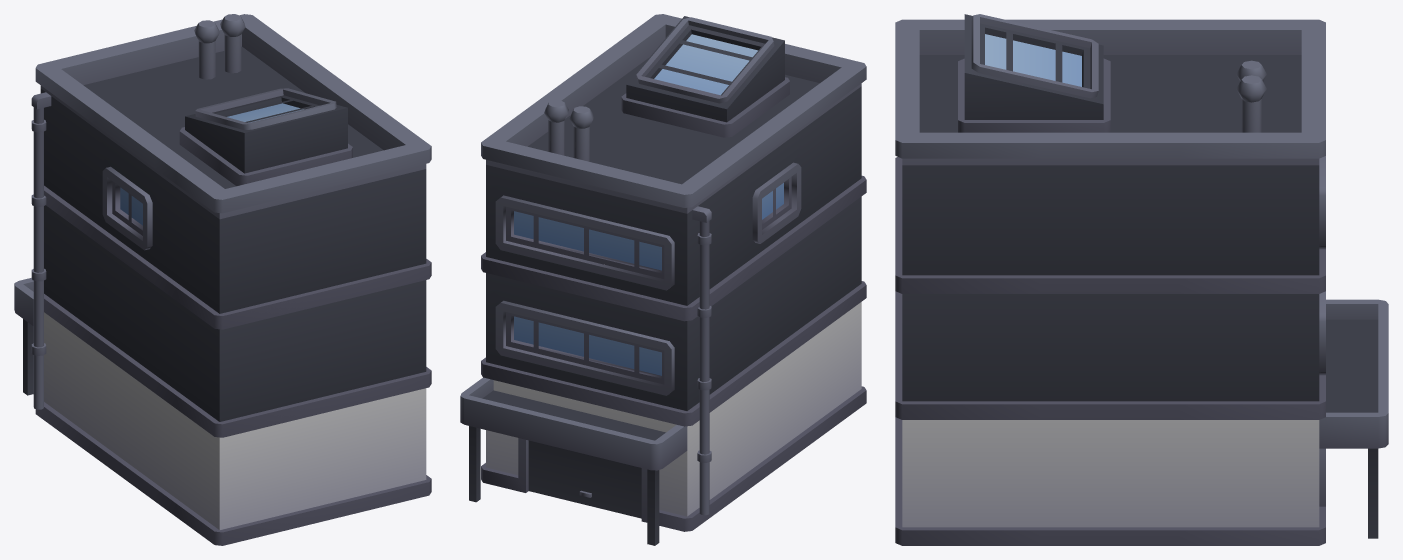
Rendered from industrial-building-d.glb.
3 renders of one model, left to right at view 1: azimuth 30°, elevation 25°; view 2: azimuth 150°, elevation 25°; view 3: azimuth 270°, elevation 25°, orthographic. The views are drawn at different scales.
Parts seen in each view (by area): view 1: building-d; view 2: building-d; view 3: building-d.
Part boxes in pixels (<box>): building-d: <box>14,14,431,545</box>; building-d: <box>460,14,866,545</box>; building-d: <box>895,14,1388,545</box>.
Size of the model in its own units: 0.8836 by 1.41 by 1.42.
